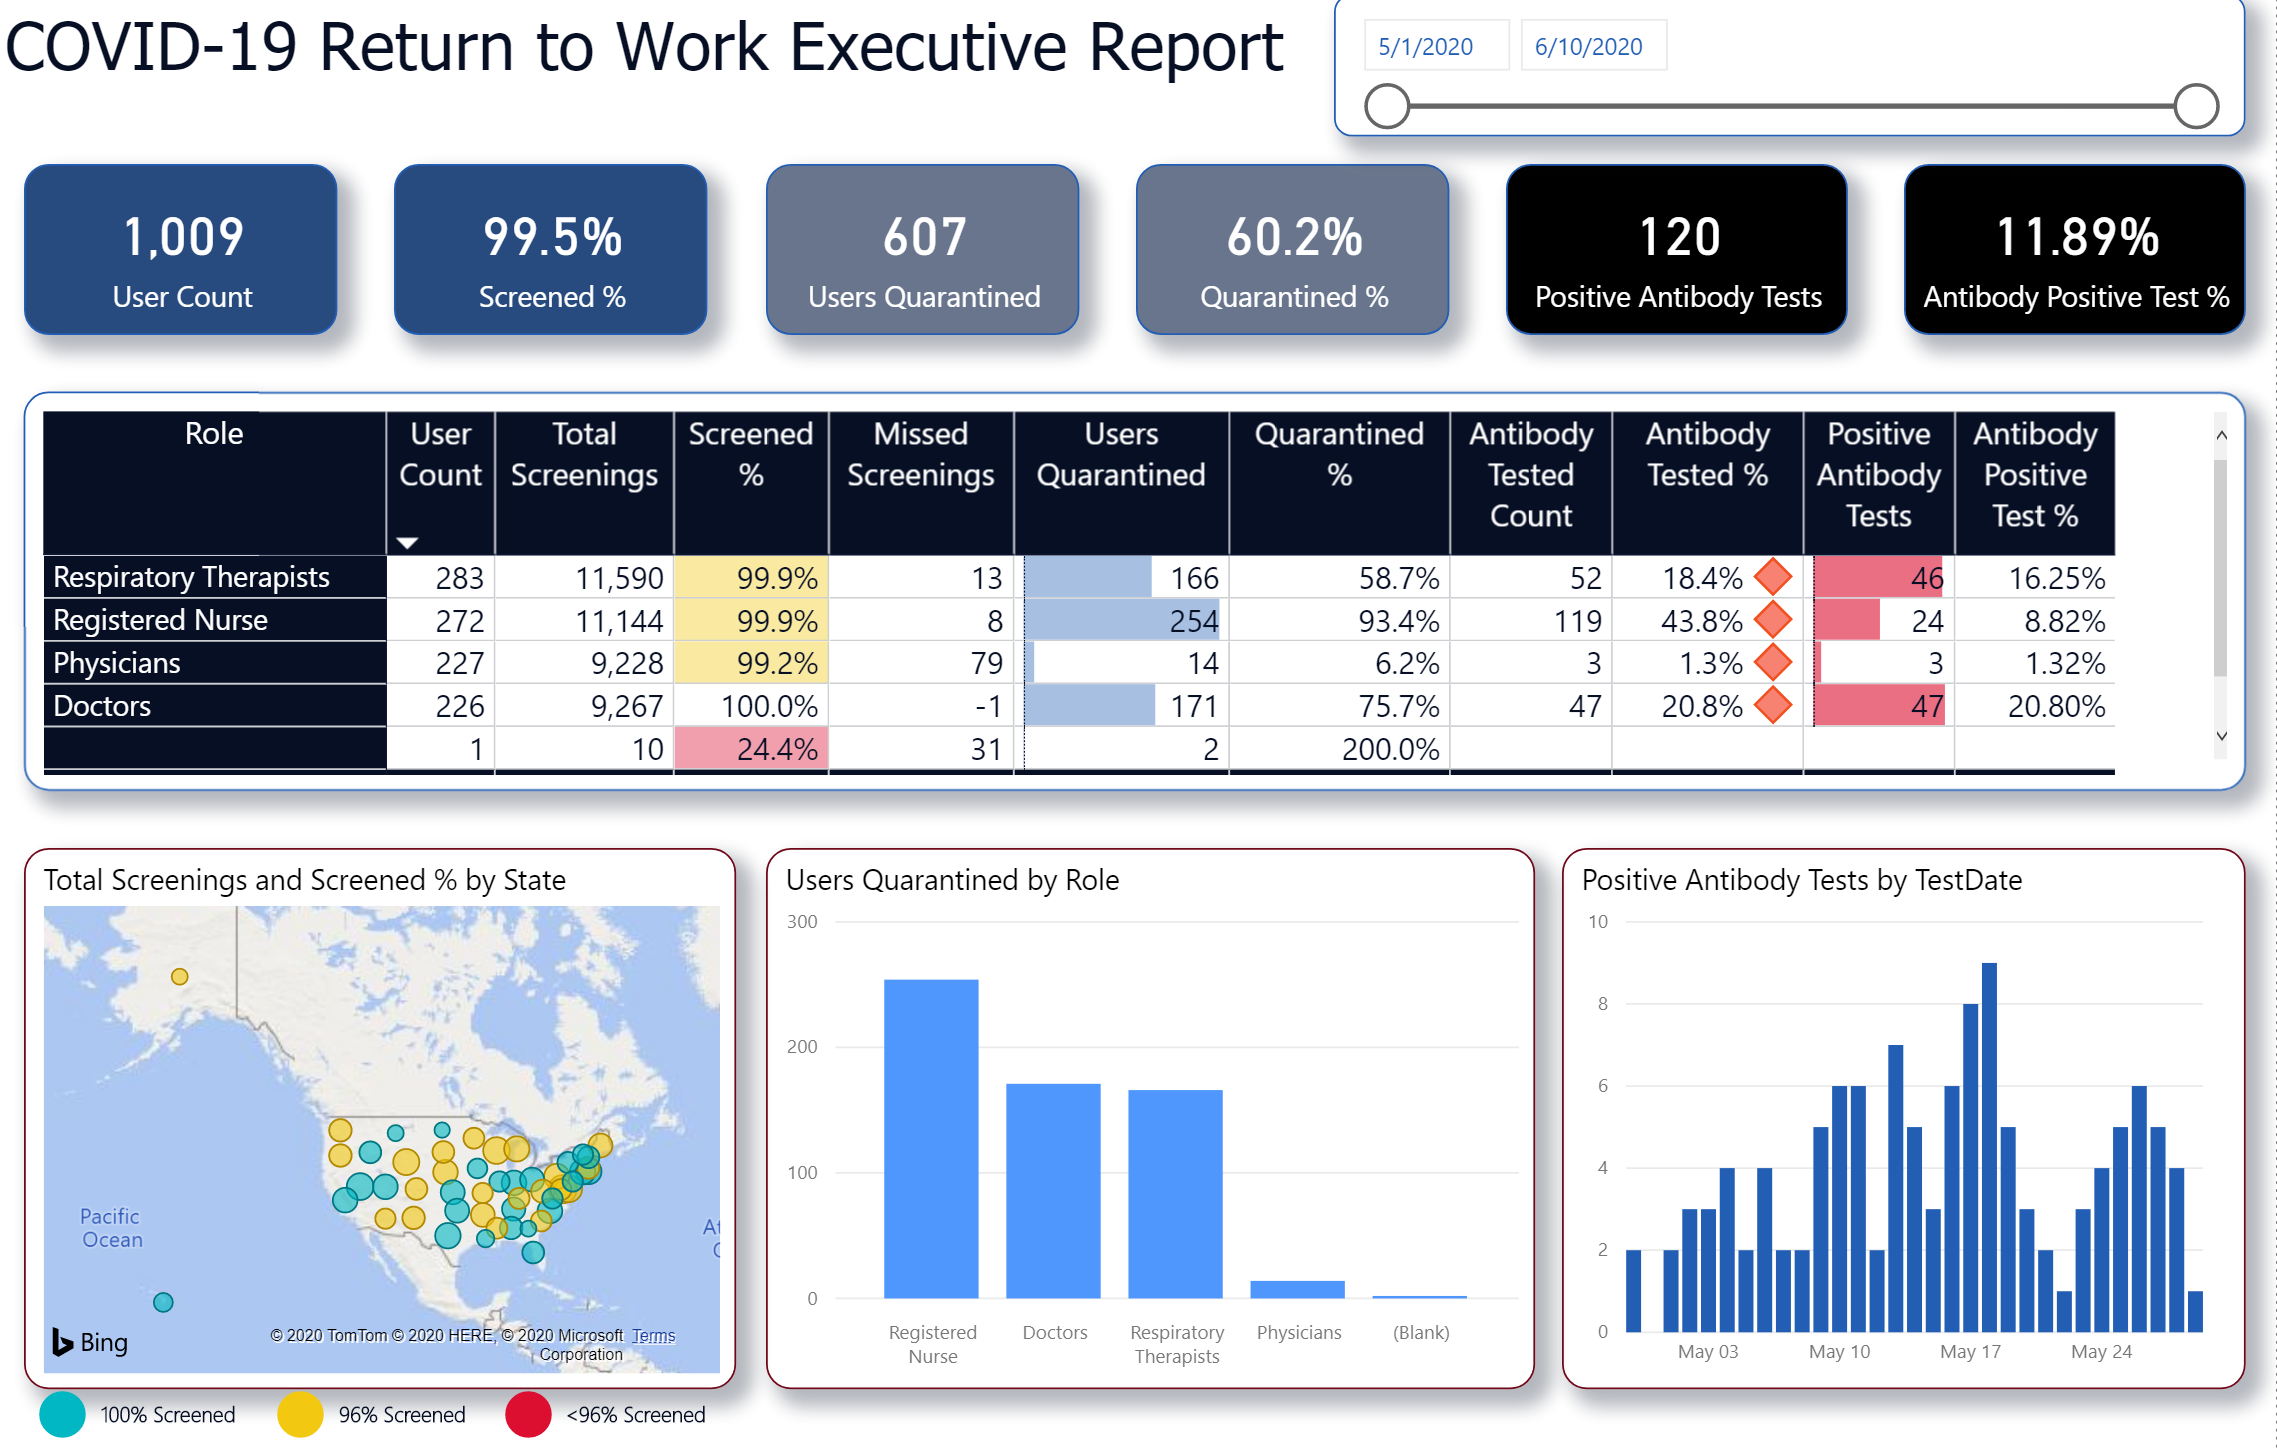

The dashboard page shown, as its layout file describes it:
{"tool":"powerbi","page":{"name":"Summary","canvas":[1280,820],"ordinal":0},"visuals":[{"type":"card","fields":{"Values":["Calculations.User Count"]},"box":[16,80,176,96],"z":1000},{"type":"lineStackedColumnComboChart","fields":{"Category":["Date.Date"],"Y":["Calculations.Positive Antibody Tests"]},"box":[880,448,384,336],"z":2000},{"type":"card","fields":{"Values":["Calculations.Users Quarrantined"]},"box":[432,80,176,96],"z":3000},{"type":"card","fields":{"Values":["Calculations.Screened %"]},"box":[224,80,176,96],"z":4000},{"type":"card","fields":{"Values":["Calculations.Quarantined %"]},"box":[640,80,176,96],"z":5000},{"type":"pivotTable","fields":{"Values":["Calculations.User Count","Calculations.Total Screenings","Calculations.Screened %","Calculations.Missed Screenings","Calculations.Users Quarantined","Calculations.Quarantined %","Calculations.Antibody Test Count","Calculations.Antibody Test %","Calculations.Positive Antibody Tests","Calculations.Positive Antibody %"],"Rows":["UserInfo.Role","UserInfo.State","UserInfo.ZipCode"]},"box":[16,192,1248,224],"z":6000},{"type":"map","fields":{"Category":["UserInfo.State","UserInfo.ZipCode"],"Size":["Calculations.Total Screenings"]},"box":[16,448,400,336],"z":8000},{"type":"basicShape","box":[21.4,781.5,32,32],"z":9000},{"type":"basicShape","box":[155,781.5,32,32],"z":10000},{"type":"basicShape","box":[283,781.5,32,32],"z":11000},{"type":"textbox","box":[53.4,781.5,112,32],"z":12000},{"type":"textbox","box":[187,781.5,112,32],"z":13000},{"type":"textbox","box":[315,781.5,112,32],"z":14000},{"type":"card","fields":{"Values":["Calculations.Positive Antibody %"]},"box":[1072,80,192,96],"z":15000},{"type":"card","fields":{"Values":["Calculations.Positive Antibody Tests"]},"box":[848,80,192,96],"z":16000},{"type":"lineStackedColumnComboChart","fields":{"Y":["Calculations.Users Quarantined"],"Category":["UserInfo.Role"],"Y2":["Calculations.Positive Antibody % All"]},"box":[432,448,432,336],"z":17000},{"type":"textbox","box":[192,0,1072,80],"z":19000}]}

Visuals, with their boxes in screenshot pixels (x1, y1, x2, y2), scaled from the page's 1280x820 canvas onto the 2277x1452 screenshot:
card - Calculations.User Count: 28, 142, 342, 312
lineStackedColumnComboChart - Date.Date x Calculations.Positive Antibody Tests: 1565, 793, 2249, 1388
card - Calculations.Users Quarrantined: 768, 142, 1082, 312
card - Calculations.Screened %: 398, 142, 712, 312
card - Calculations.Quarantined %: 1138, 142, 1452, 312
pivotTable - Calculations.User Count x Calculations.Total Screenings: 28, 340, 2249, 737
map - UserInfo.State x UserInfo.ZipCode: 28, 793, 740, 1388
basicShape: 38, 1384, 95, 1440
basicShape: 276, 1384, 333, 1440
basicShape: 503, 1384, 560, 1440
textbox: 95, 1384, 294, 1440
textbox: 333, 1384, 532, 1440
textbox: 560, 1384, 760, 1440
card - Calculations.Positive Antibody %: 1907, 142, 2249, 312
card - Calculations.Positive Antibody Tests: 1509, 142, 1850, 312
lineStackedColumnComboChart - Calculations.Users Quarantined x UserInfo.Role: 768, 793, 1537, 1388
textbox: 342, 0, 2249, 142
